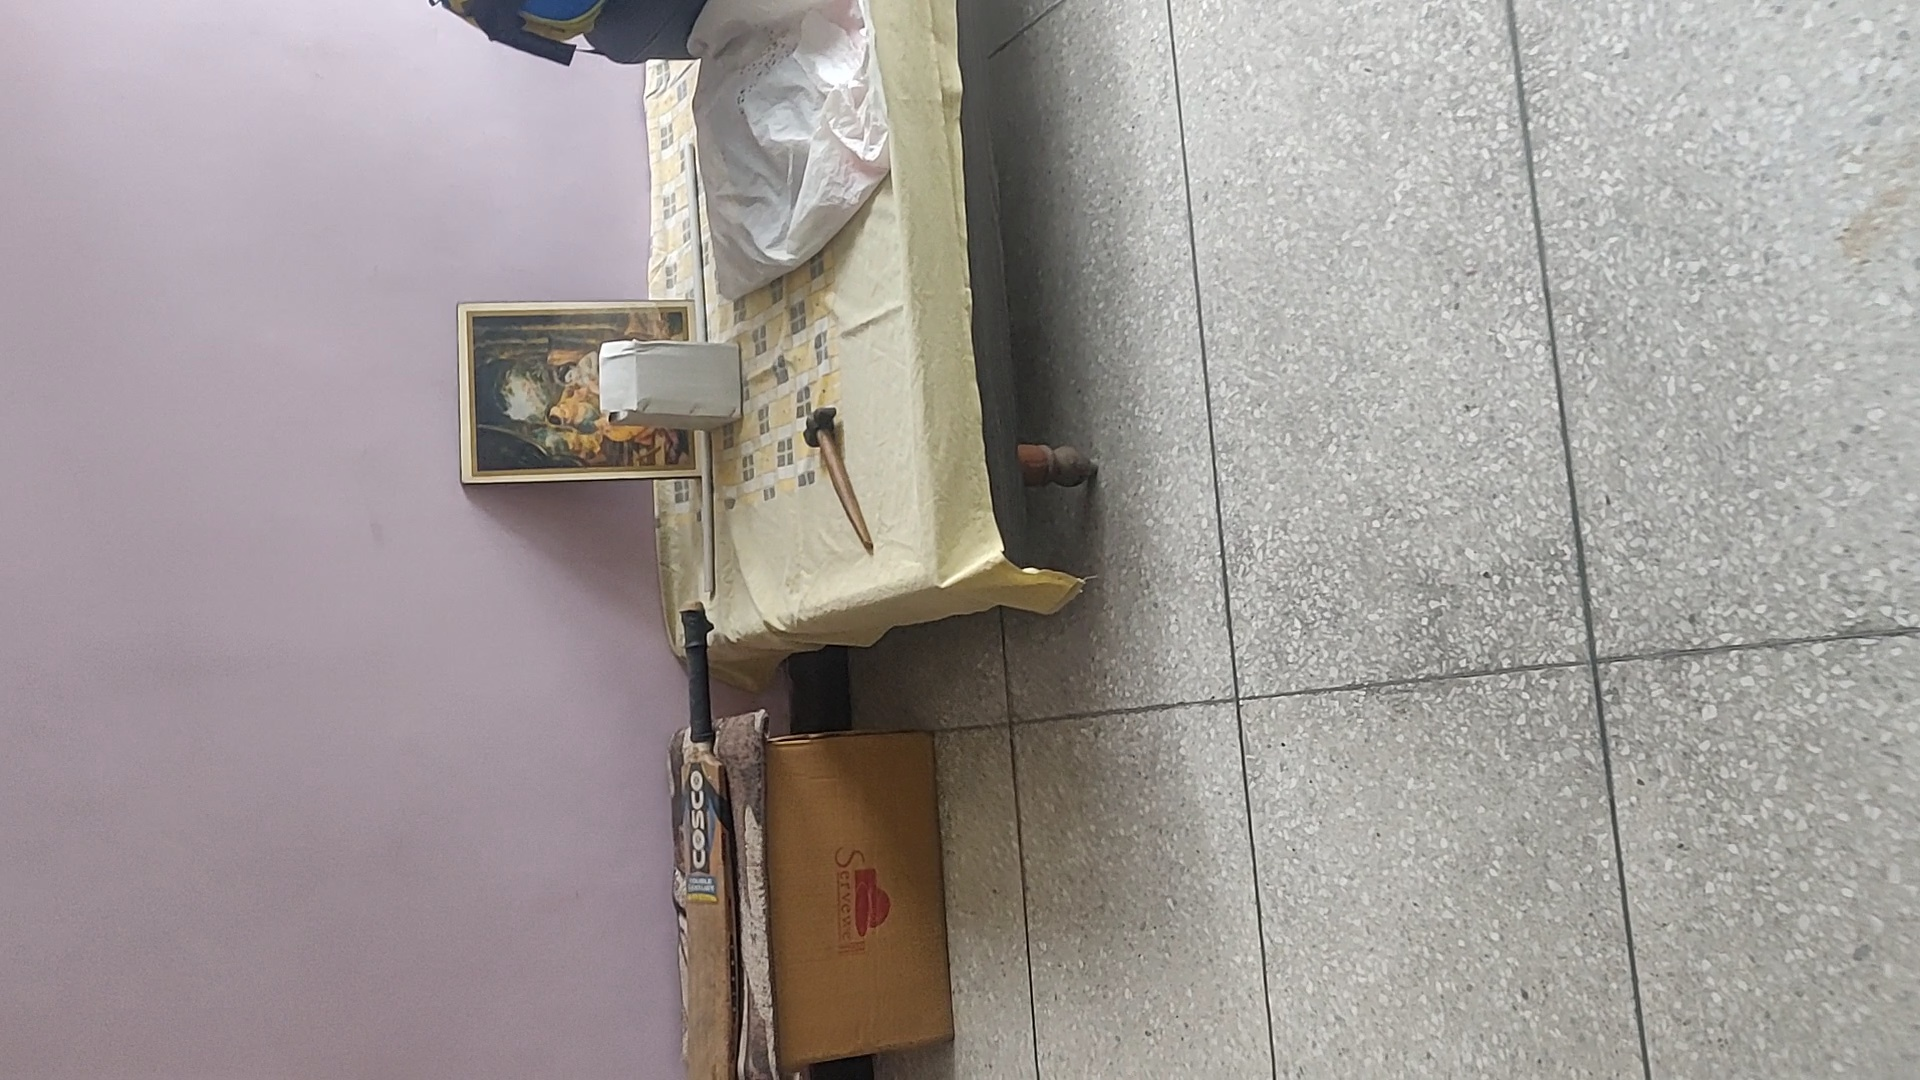hammer: (800, 407, 874, 554)
